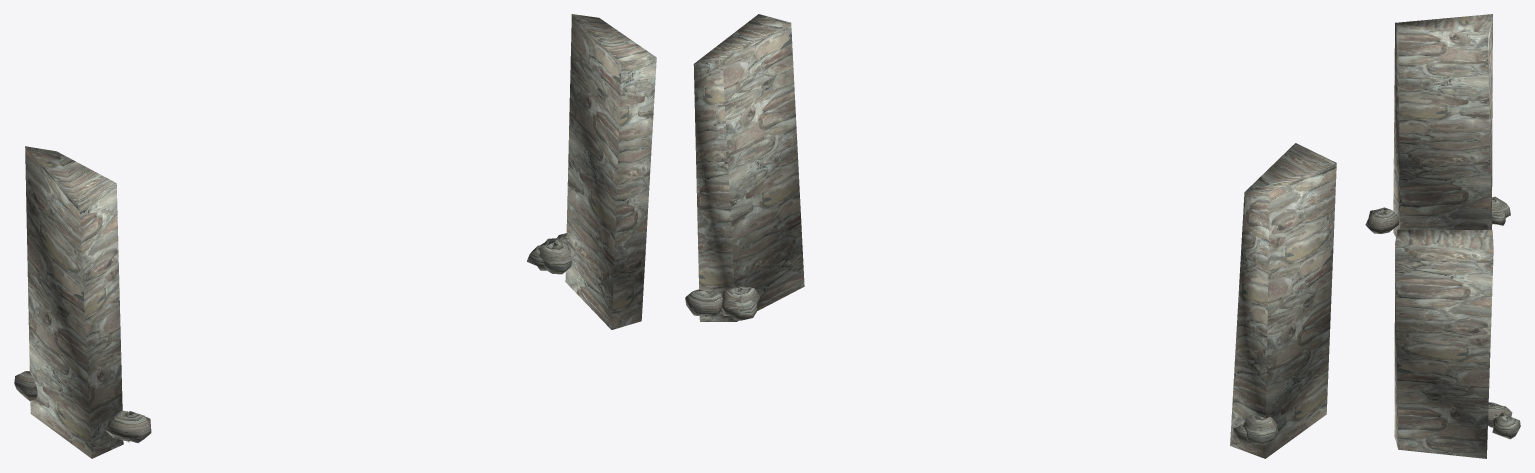
Rendered from kit_sr_slab_posts_p.glb.
3 views of the same model, side by side, from view 1: azimuth 30°, elevation 25°; view 2: azimuth 150°, elevation 25°; view 3: azimuth 270°, elevation 25° (orthographic). The views are drawn at different scales.
Visible parts, largest first — view 1: kit_sr_slab_posts_p; view 2: kit_sr_slab_posts_p; view 3: kit_sr_slab_posts_p.
Part boxes in pixels (left/top/right/bottom): kit_sr_slab_posts_p: left=14, top=14, right=656, bottom=458; kit_sr_slab_posts_p: left=685, top=14, right=1336, bottom=458; kit_sr_slab_posts_p: left=1365, top=14, right=1520, bottom=458.
Size of the model in its own units: 3.51 by 1.57 by 1.01.
Materials: 1 (1 with a texture image).
